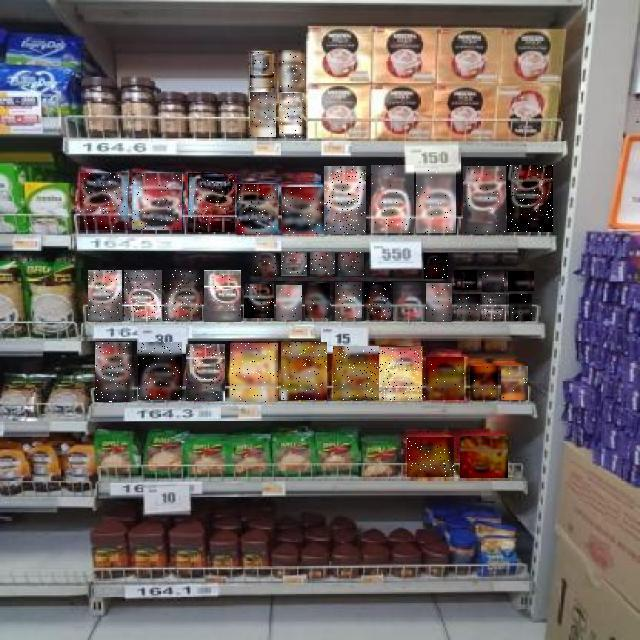Coffee: (507, 165, 553, 232), (371, 165, 414, 233), (463, 166, 506, 234), (325, 166, 367, 234), (132, 173, 182, 230), (230, 343, 278, 402), (188, 173, 235, 232), (80, 173, 128, 230), (281, 342, 327, 400), (138, 343, 182, 401), (416, 170, 456, 233), (333, 346, 379, 400), (380, 347, 426, 401), (96, 343, 134, 403), (186, 344, 225, 401), (237, 184, 278, 234), (282, 188, 324, 236), (460, 436, 508, 478), (124, 270, 162, 321), (204, 270, 241, 322), (408, 437, 456, 477), (164, 271, 202, 321), (89, 270, 123, 322), (427, 357, 465, 400), (393, 283, 425, 321), (250, 92, 276, 137), (280, 94, 306, 138), (279, 51, 304, 93), (364, 282, 391, 320), (244, 285, 274, 319), (426, 283, 452, 322), (335, 282, 362, 318), (470, 366, 498, 400), (306, 284, 332, 320), (501, 366, 528, 400), (276, 285, 302, 320), (251, 52, 275, 88), (510, 294, 534, 321), (281, 252, 307, 276), (338, 252, 364, 276), (424, 253, 448, 279), (483, 293, 507, 319), (457, 295, 480, 321), (310, 252, 335, 274), (252, 254, 276, 276), (508, 271, 534, 291), (482, 271, 504, 293), (454, 270, 477, 290)
